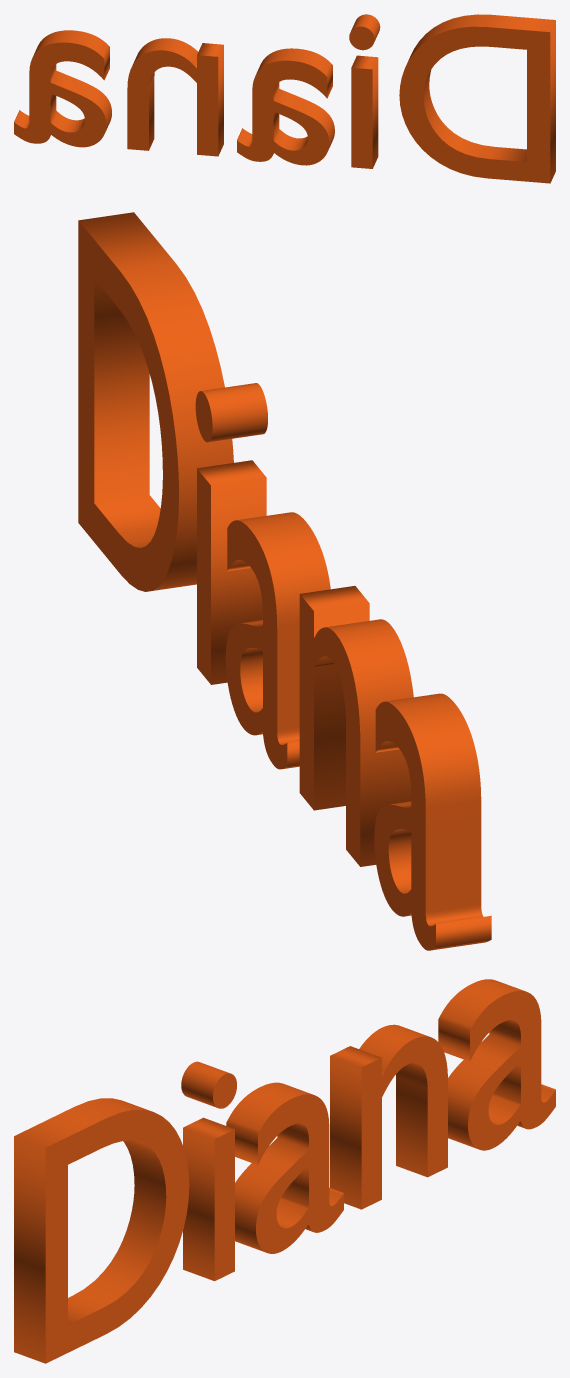
The model's file is DianaText.obj.
The picture shows the model from 3 angles, top to bottom: view 1: azimuth 30°, elevation 25°; view 2: azimuth 150°, elevation 25°; view 3: azimuth 270°, elevation 25°; orthographic projection. The views are drawn at different scales.
Visible parts, largest first — view 1: Text.010_Mesh.008; view 2: Text.010_Mesh.008; view 3: Text.010_Mesh.008.
Part boxes in pixels (<box>): Text.010_Mesh.008: <box>14,14,555,183</box>; Text.010_Mesh.008: <box>78,212,491,950</box>; Text.010_Mesh.008: <box>14,979,555,1363</box>.
Bounding box in the file's own units: 47.88 × 18.74 × 42.09.
1 material, 1 textured.
